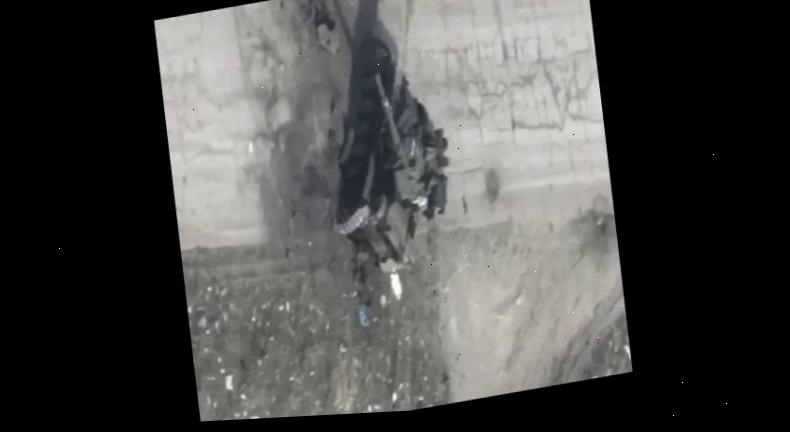tank: (317, 48, 465, 282)
